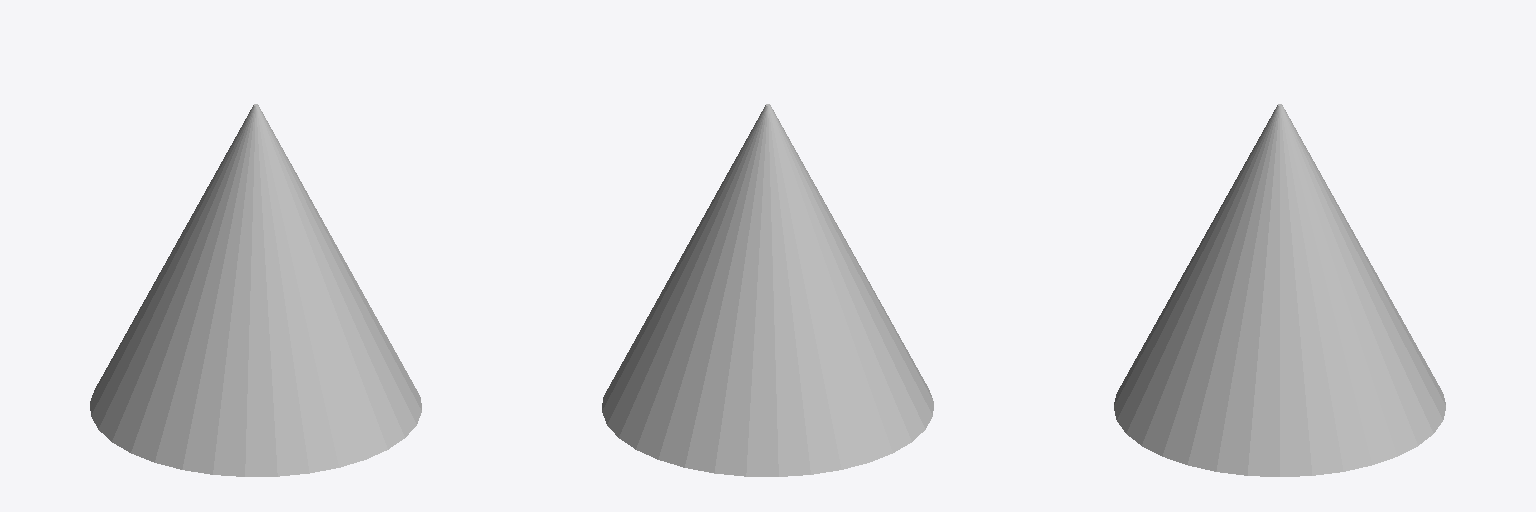
File: tree_top.obj
The picture shows the model from 3 angles: view 1: azimuth 30°, elevation 25°; view 2: azimuth 150°, elevation 25°; view 3: azimuth 270°, elevation 25°; orthographic projection.
Visible parts, largest first — view 1: Cone; view 2: Cone; view 3: Cone.
Boxes of the visible parts, <box> form: Cone: <box>90,104,421,476</box>; Cone: <box>602,104,933,476</box>; Cone: <box>1114,104,1445,476</box>.
Bounding box in the file's own units: 2 × 2 × 2.